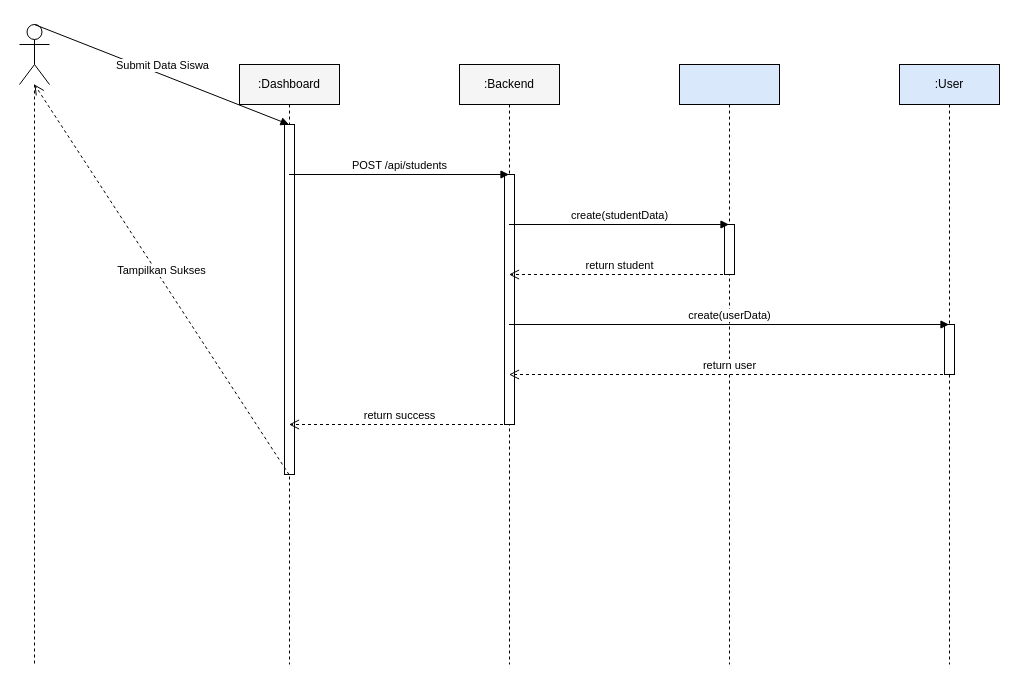
Image size: 1017x683. Some labels were removed from this diagram. The shapes that lost their labels are listed below. From the top down, each one's box as (x1, y1, x2, y2) in pixels, then its label:
(18, 24, 50, 84): Admin
(678, 64, 780, 664): :Student
